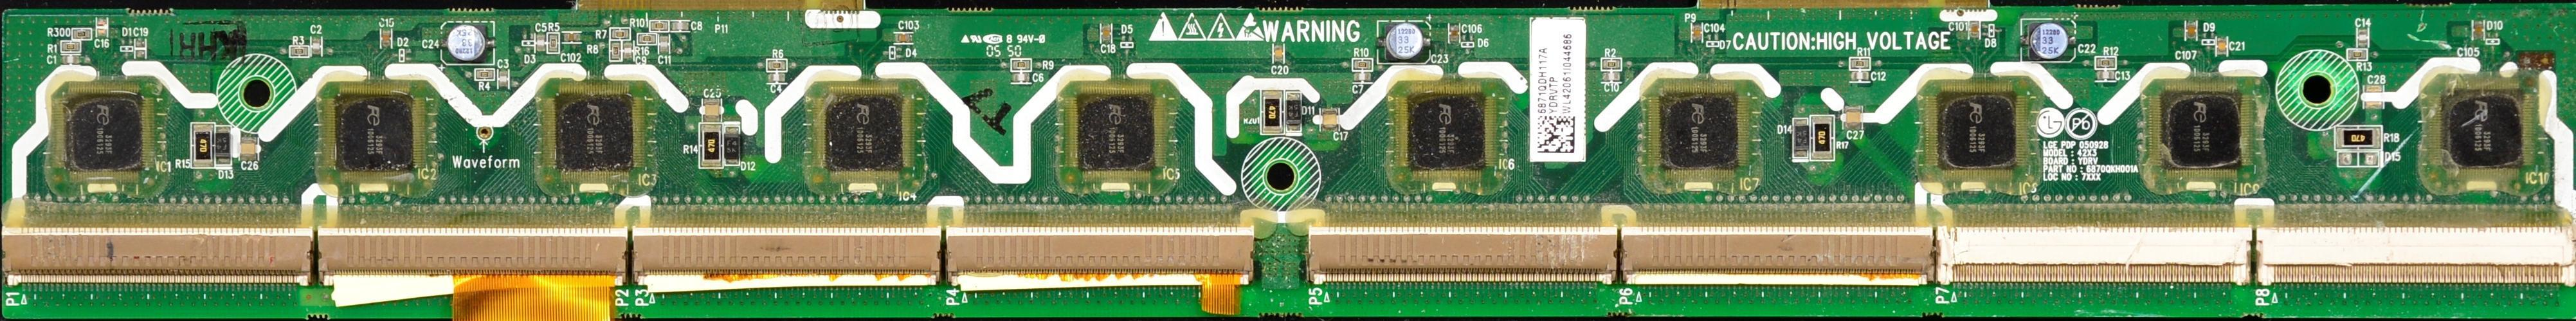Capacitor: (437, 16, 496, 59), (1378, 14, 1429, 61), (2023, 22, 2073, 65), (1317, 100, 1345, 140), (1842, 105, 1871, 142), (237, 131, 265, 168), (2361, 81, 2391, 112), (698, 93, 728, 124), (1265, 40, 1293, 70), (376, 22, 399, 52), (492, 63, 516, 91), (889, 25, 924, 44), (1095, 21, 1120, 51), (1445, 15, 1465, 48), (1963, 17, 1986, 46), (1346, 68, 1376, 87), (1003, 71, 1046, 85), (307, 30, 330, 55), (53, 53, 89, 69), (2182, 21, 2206, 45), (668, 16, 700, 34), (1687, 19, 1709, 46), (2469, 19, 2488, 48), (656, 32, 673, 62), (2352, 21, 2375, 46), (1851, 69, 1879, 85), (532, 27, 550, 53), (561, 28, 589, 45), (766, 71, 794, 87), (2216, 34, 2234, 57), (2094, 70, 2121, 86), (618, 39, 635, 61), (1599, 71, 1622, 86), (96, 18, 107, 37)
IC: (1046, 79, 1223, 203), (2421, 77, 2566, 201), (1376, 76, 1519, 185), (1914, 71, 2045, 188), (799, 80, 936, 189), (1639, 82, 1765, 197), (529, 82, 648, 190), (321, 87, 437, 184), (2149, 87, 2263, 174), (63, 95, 145, 172)
Resistor: (2338, 124, 2392, 151), (696, 122, 725, 173), (190, 124, 215, 174), (2091, 51, 2130, 73), (762, 55, 797, 73), (471, 64, 500, 86), (1008, 55, 1039, 73), (606, 23, 632, 42), (58, 39, 91, 55), (1348, 57, 1375, 73), (287, 42, 313, 60), (648, 18, 673, 34), (544, 29, 560, 56), (606, 41, 626, 62), (637, 32, 661, 48), (2345, 50, 2372, 62), (72, 28, 92, 40)
